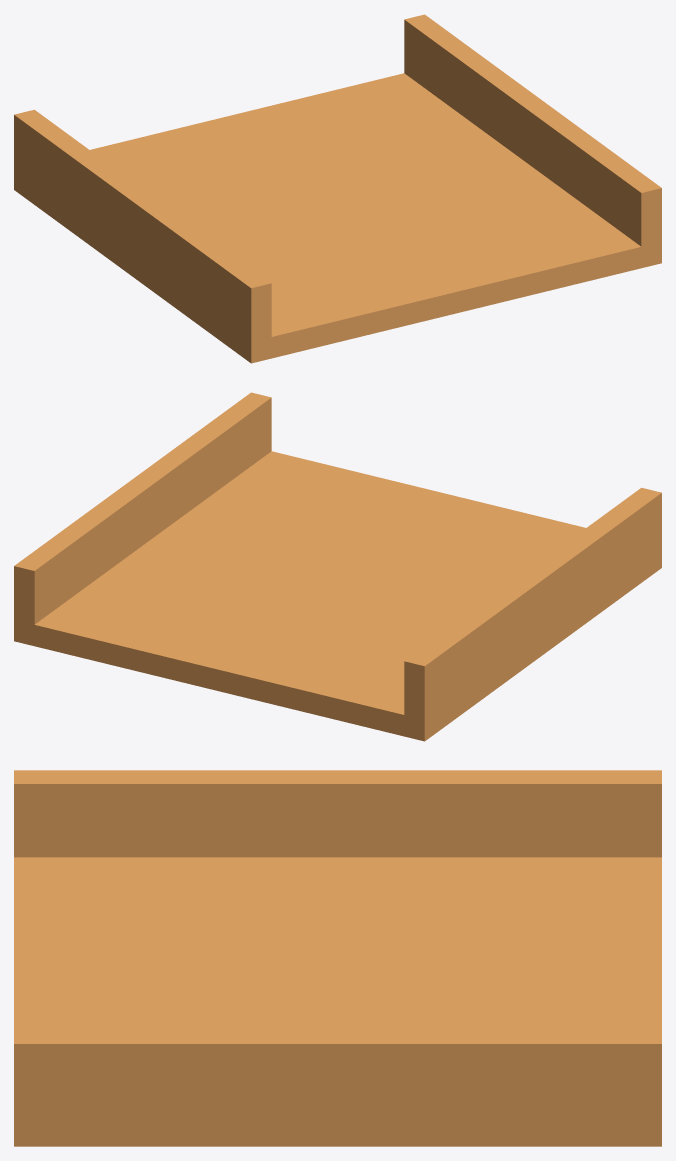
The model's file is YellowRoof_2Edges.glb.
3 renders of one model, top to bottom at view 1: azimuth 30°, elevation 25°; view 2: azimuth 150°, elevation 25°; view 3: azimuth 270°, elevation 25°, orthographic. The views are drawn at different scales.
Parts seen in each view (by area): view 1: roof_flat_2Edges_yellow; view 2: roof_flat_2Edges_yellow; view 3: roof_flat_2Edges_yellow.
Part boxes in pixels (x1=…): roof_flat_2Edges_yellow: x1=14, y1=14, x2=661, y2=363; roof_flat_2Edges_yellow: x1=14, y1=392, x2=661, y2=741; roof_flat_2Edges_yellow: x1=14, y1=770, x2=661, y2=1146.
Size of what is drawn, in the model's own units: 4 by 0.7 by 4.
1 material, 1 textured.
